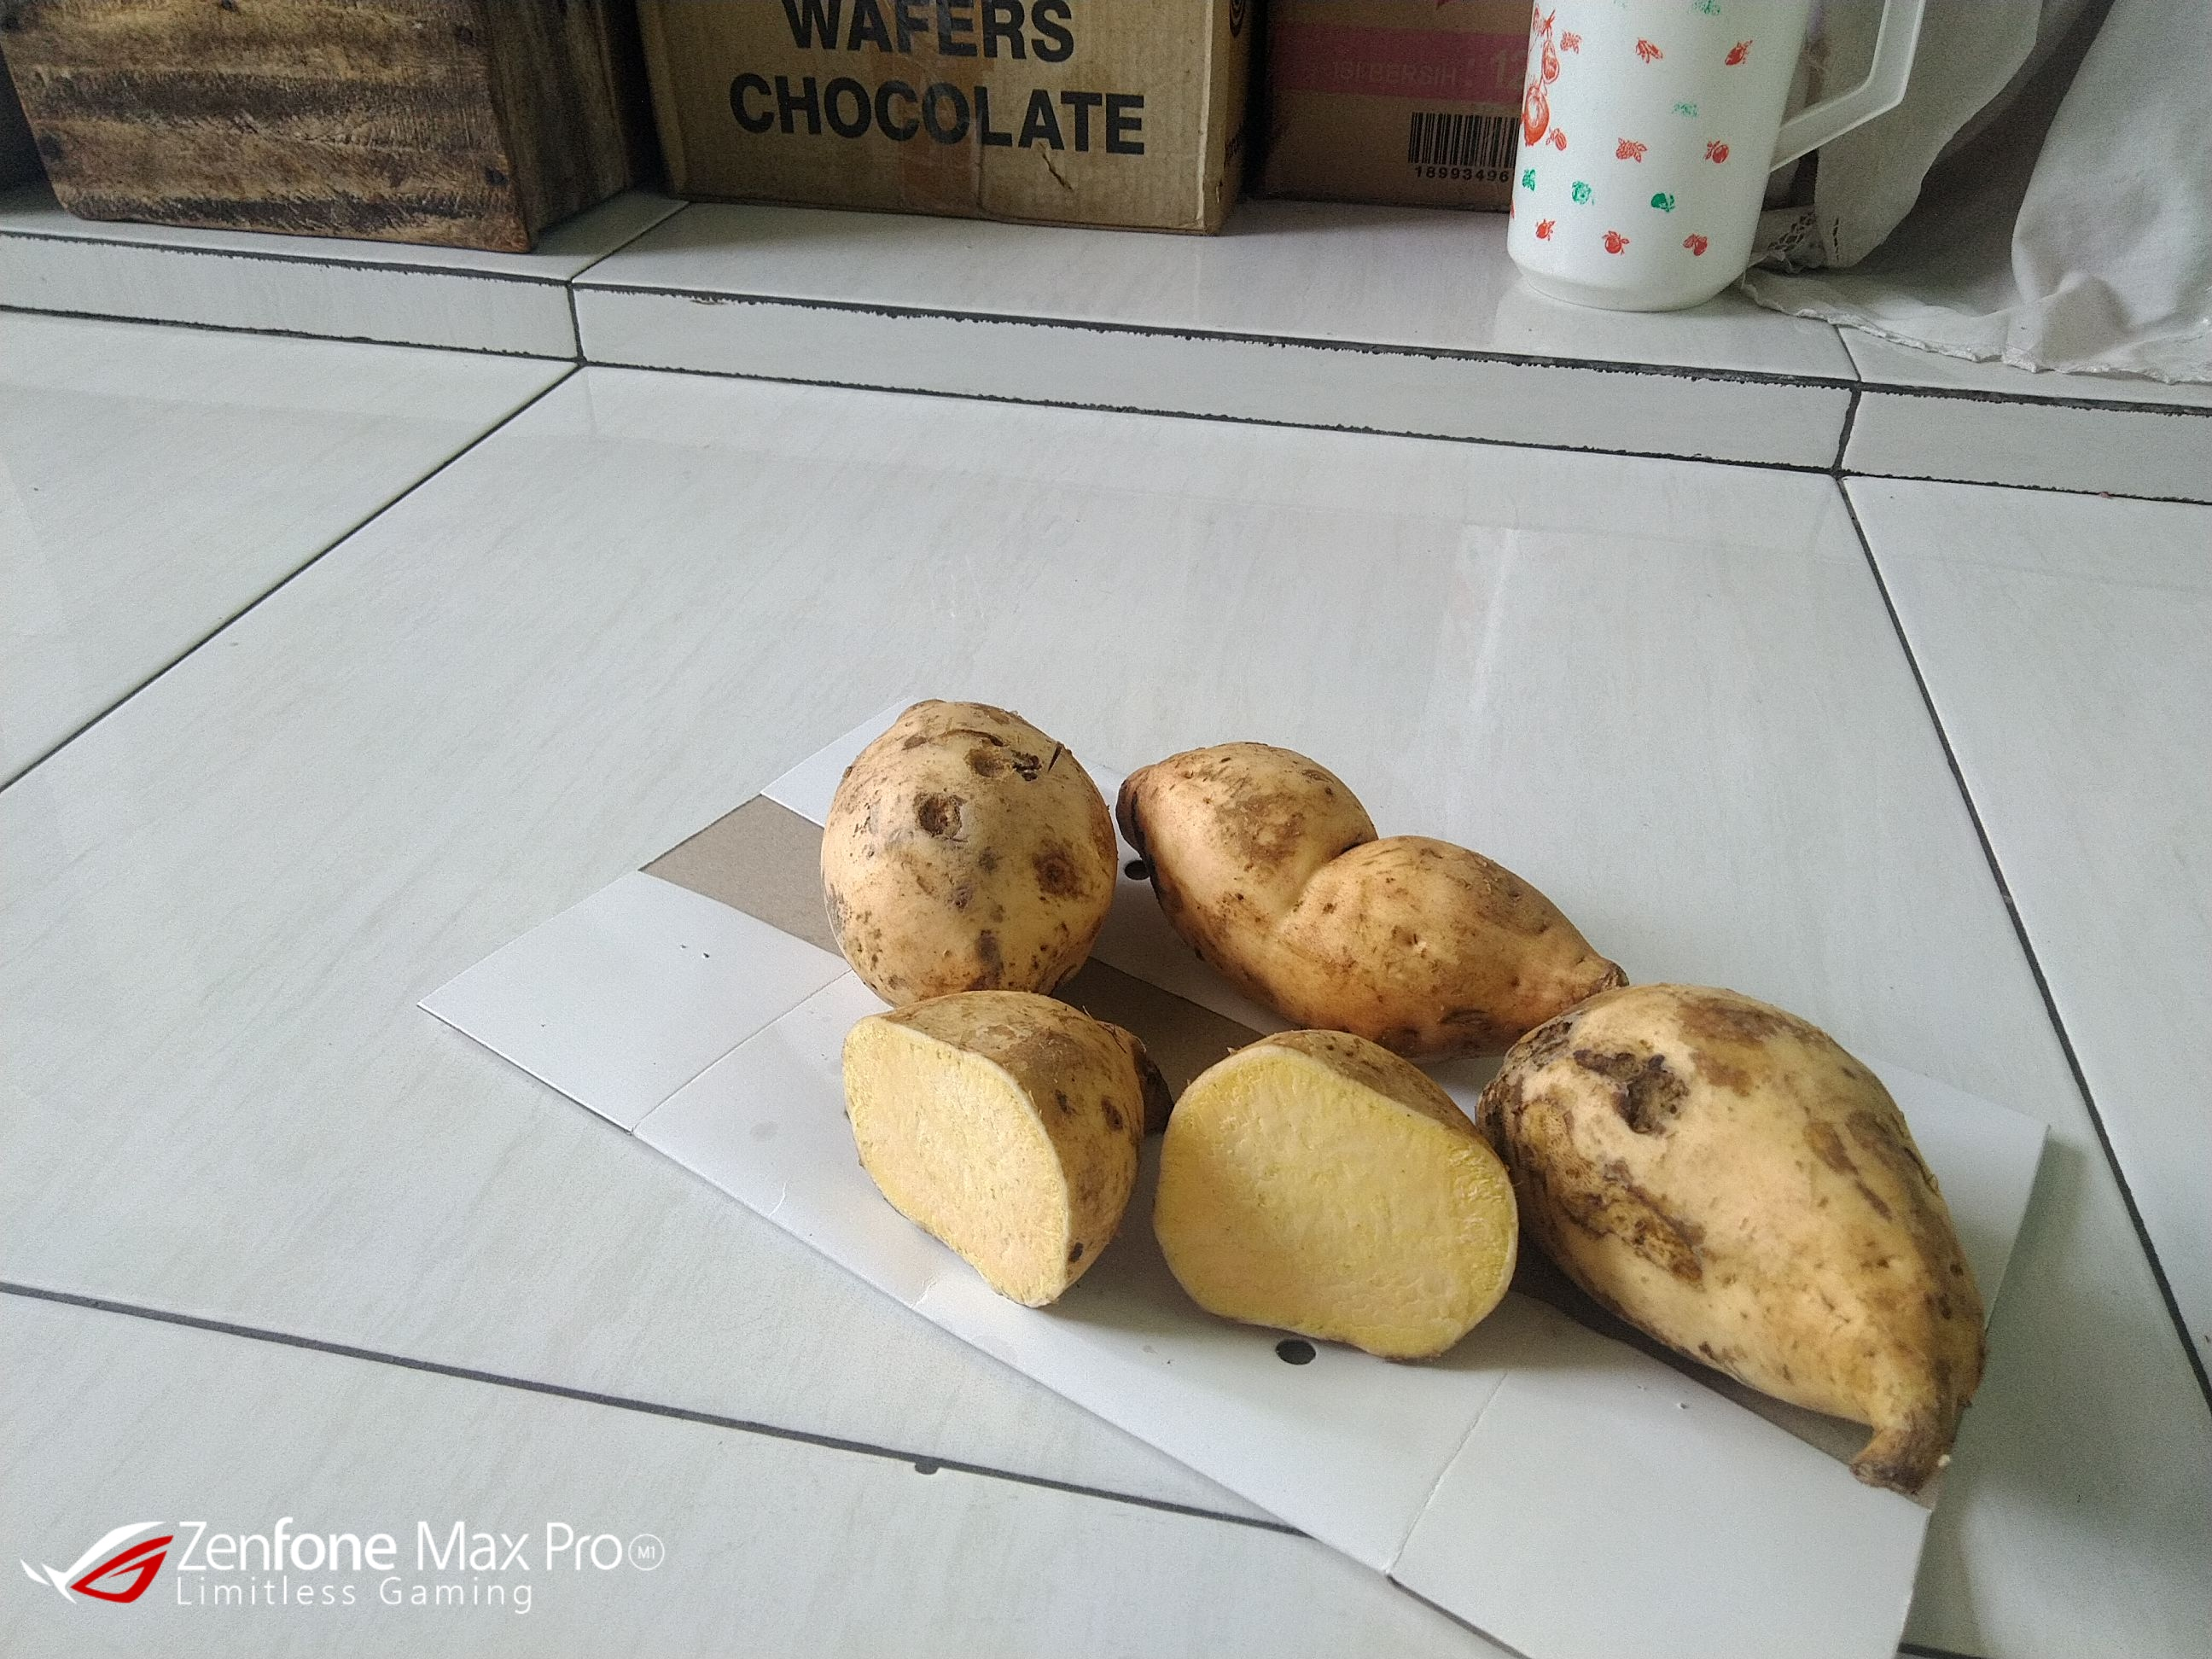ubi kuning: (1470, 978, 2008, 1500), (1115, 735, 1651, 1046), (1151, 1023, 1531, 1364), (841, 983, 1176, 1316), (819, 674, 1116, 1002)
